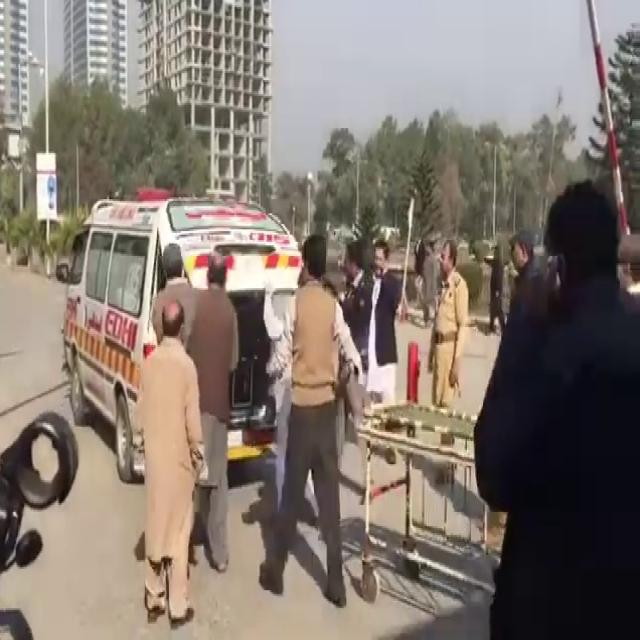ambulance: (45, 184, 328, 447)
